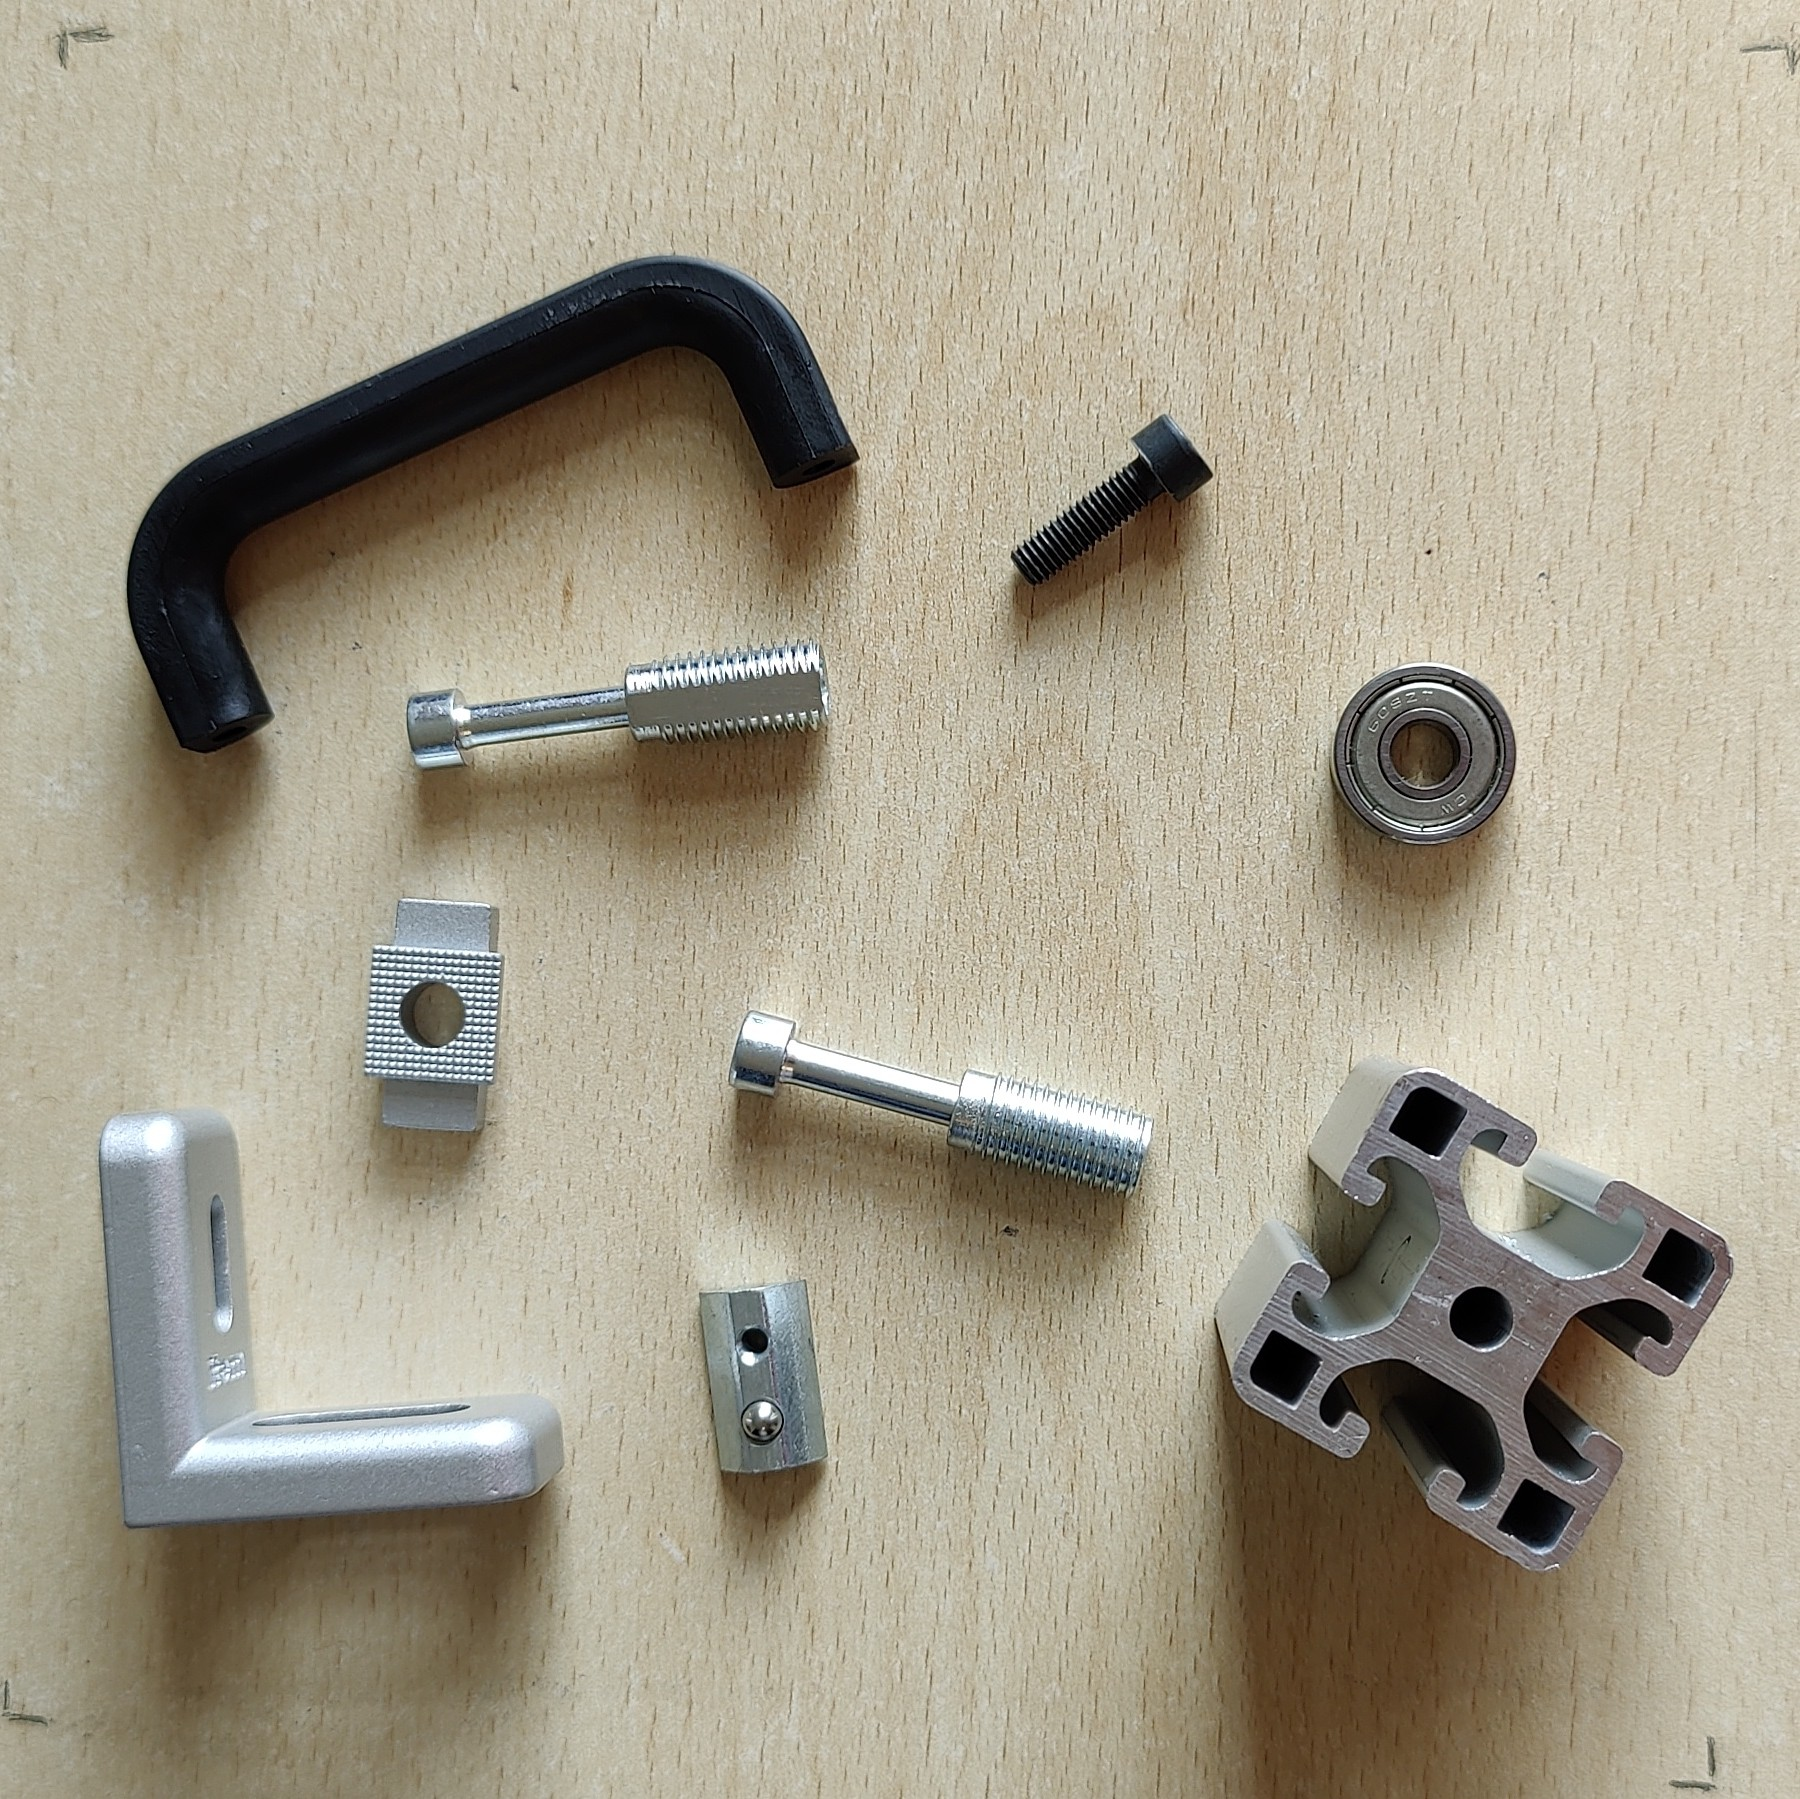Aluminium Extension: (1214, 1054, 1736, 1577)
Ball Bearing: (1327, 664, 1518, 848)
Multiwinkel: (97, 1102, 567, 1530)
Pull Handle: (124, 252, 861, 758)
Shoulder Socket Head Cap Screw: (725, 1007, 1154, 1199), (405, 631, 835, 773)
Socket Head Cap Screw: (1008, 409, 1215, 588)
T Nut Square: (362, 895, 509, 1135)
T Spring Nut: (697, 1275, 832, 1479)
